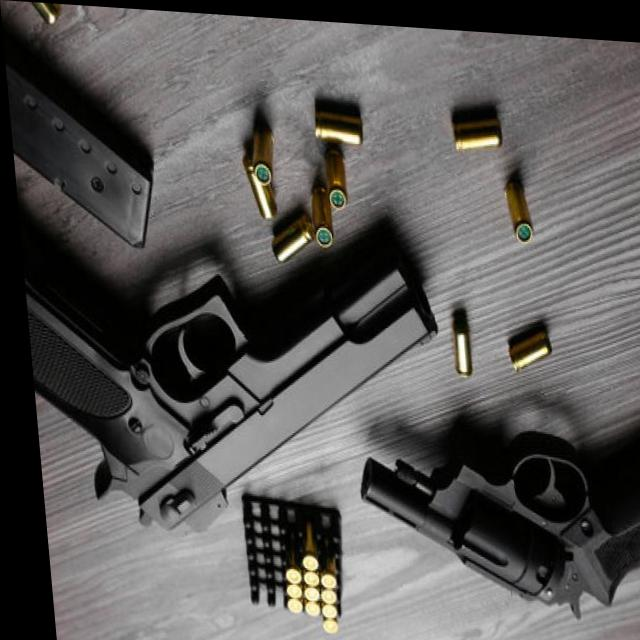handgun: (16, 227, 447, 544), (350, 413, 640, 620)
